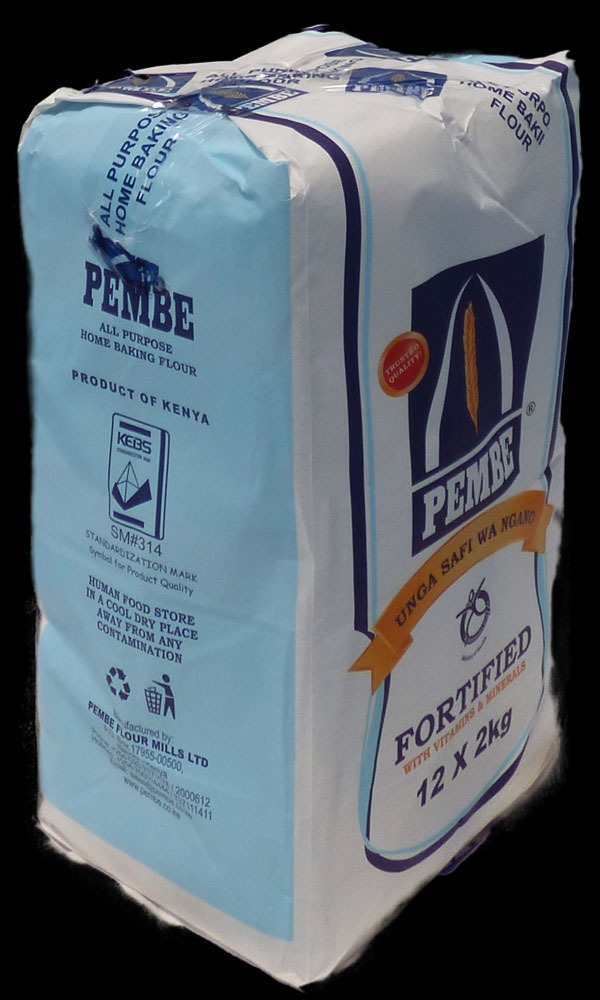wheat_flour_blue_label: (17, 11, 570, 987)
